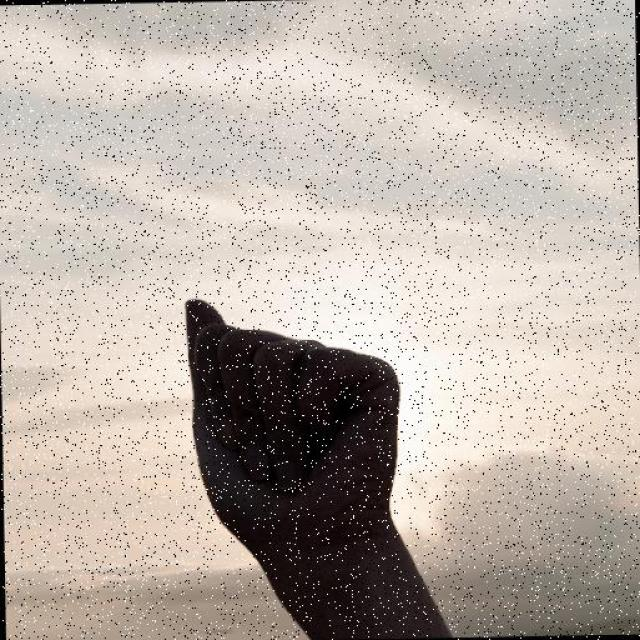A: (182, 292, 408, 549)
